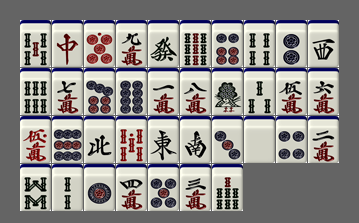0m: (20, 116, 51, 163)
0p: (84, 20, 115, 67)
0s: (116, 116, 147, 163)
1m: (148, 68, 179, 115)
1p: (84, 164, 115, 211)
1s: (212, 68, 243, 115)
1z: (148, 116, 179, 163)
2m: (308, 116, 339, 163)
2p: (276, 20, 307, 67)
2s: (52, 164, 83, 211)
2z: (180, 116, 211, 163)
3m: (180, 164, 211, 211)
3p: (212, 116, 243, 163)
3s: (244, 68, 275, 115)
3z: (308, 20, 339, 67)
4m: (116, 164, 147, 211)
4p: (276, 116, 307, 163)
4s: (244, 20, 275, 67)
4z: (84, 116, 115, 163)
5m: (276, 68, 307, 115)
5p: (148, 164, 179, 211)
5s: (20, 20, 51, 67)
5z: (244, 116, 275, 163)
6m: (308, 68, 339, 115)
6p: (212, 20, 243, 67)
6s: (20, 68, 51, 115)
6z: (148, 20, 179, 67)
7m: (52, 68, 83, 115)
7p: (84, 68, 115, 115)
7s: (212, 164, 243, 211)
7z: (52, 20, 83, 67)
8m: (180, 68, 211, 115)
8p: (116, 68, 147, 115)
8s: (20, 164, 51, 211)
9m: (116, 20, 147, 67)
9p: (52, 116, 83, 163)
9s: (180, 20, 211, 67)
